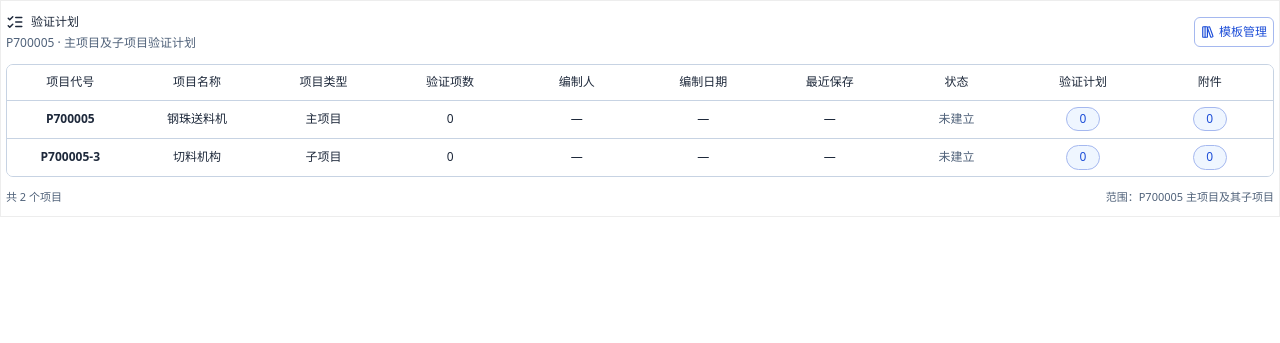
it: ValidationPlanManager › 汇总页只展示当前主项目及其子项目并可进入后返回
This screenshot has width=1280, height=343.
Click the row "P700005-3 切料机构 子项目 0 — — — 未建立 0 0" at {"x": 640, "y": 157}, box 7,138 -> 1273,176
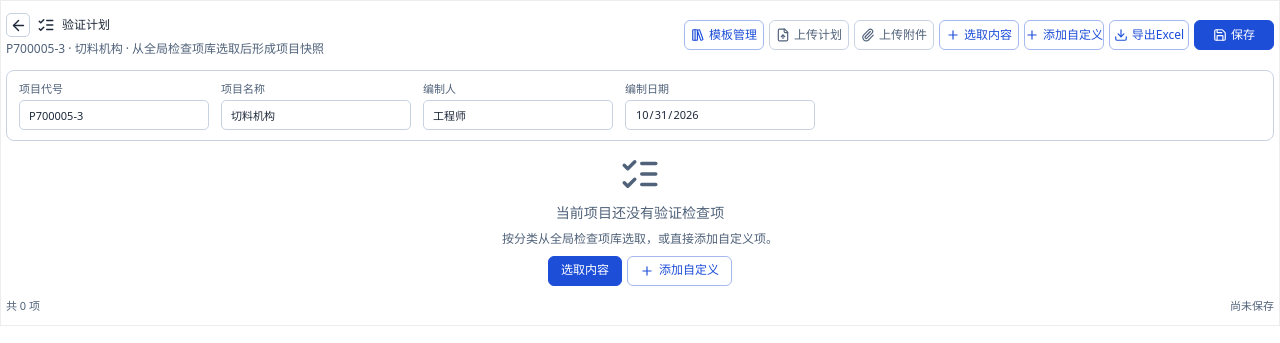
Result: the button titled "返回验证计划列表" is shown
Click the button titled "返回验证计划列表" at {"x": 18, "y": 25}, box 6,13 -> 30,37
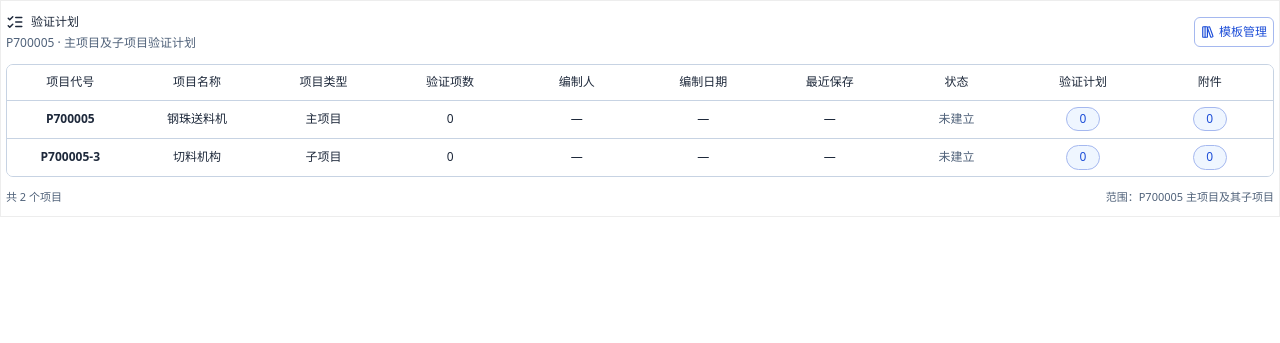
Result: the text "共 2 个项目" is shown at 6,189 -> 62,204
